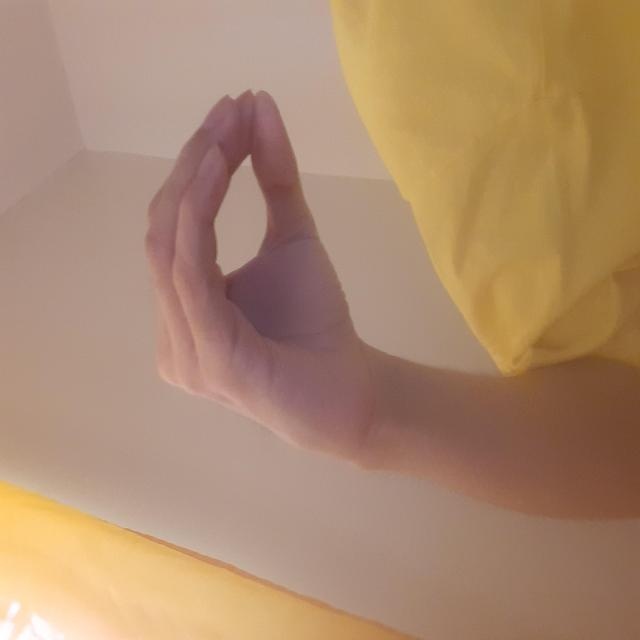O: (115, 61, 428, 471)
